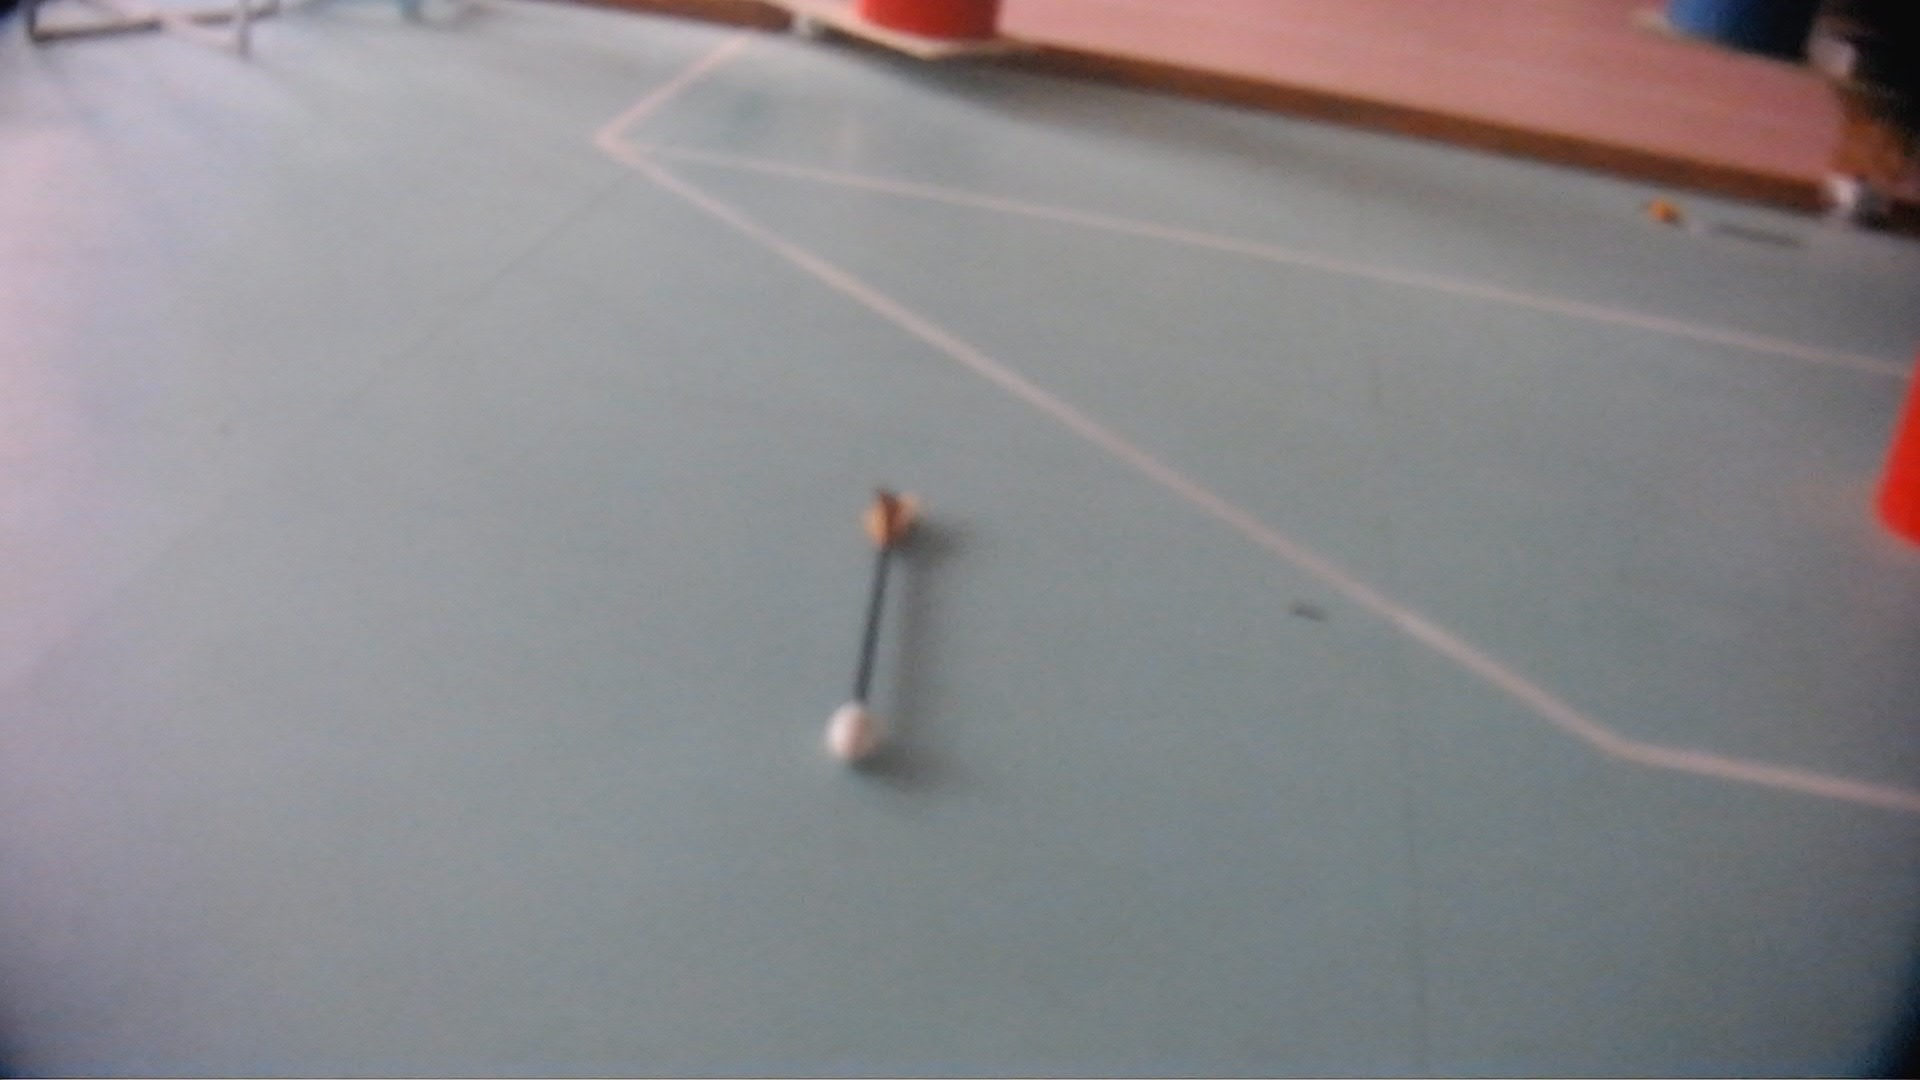arrow: (820, 487, 920, 762)
arrowFront: (823, 702, 884, 764)
